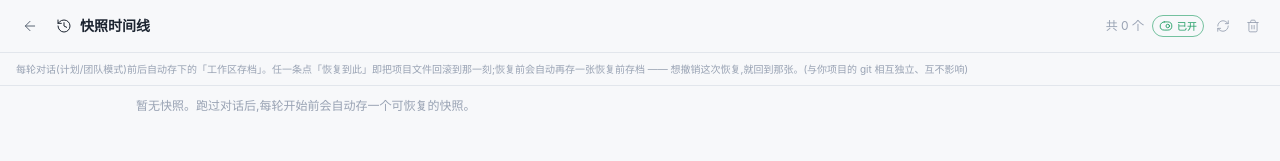
Test: 快照总开关 › 点一下把相反的值发给后端,并提示「已记住」
This screenshot has width=1280, height=161.
Click the button with test id "snapshot-toggle": [1178, 26] box [1152,15,1204,37]
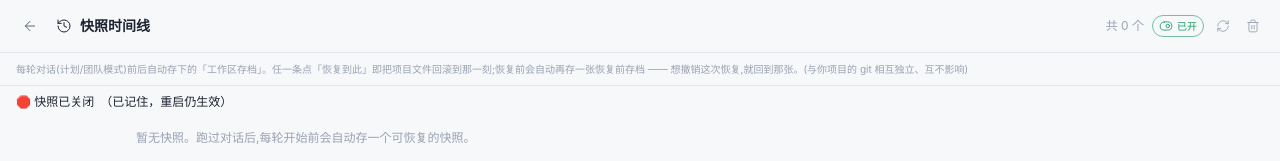
Expected: the text "已记住" is shown, [16,94,232,109]
